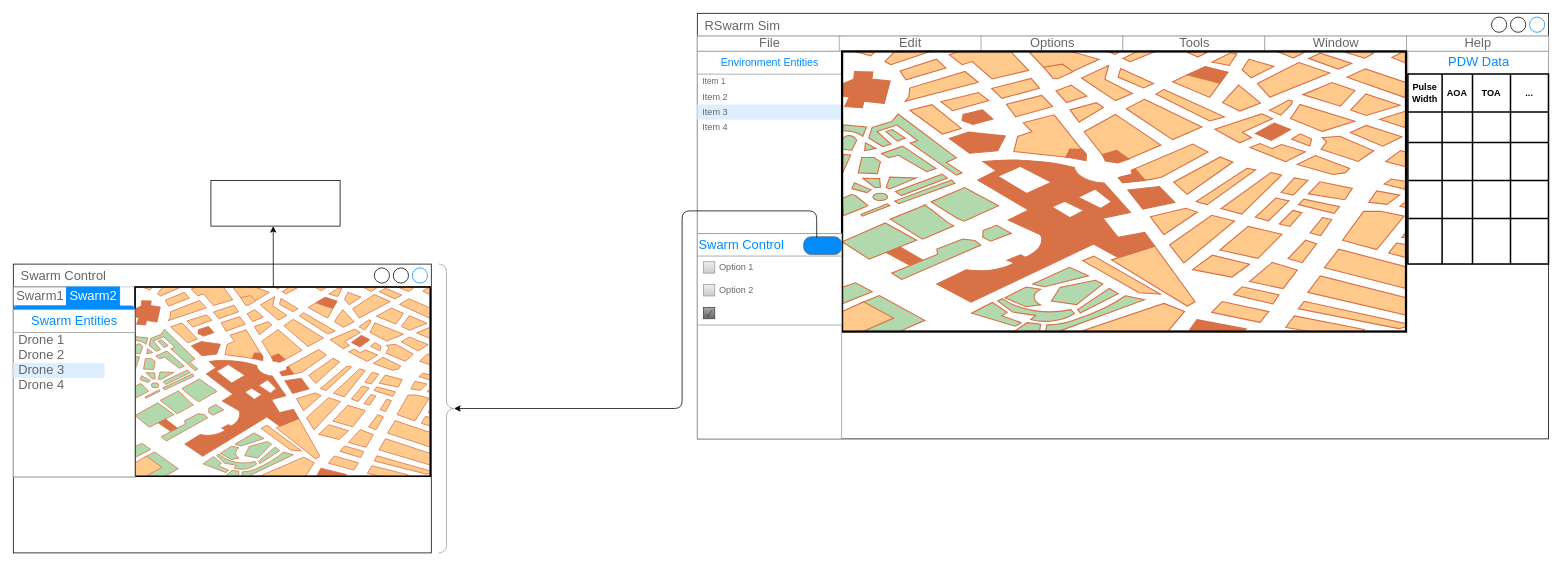
Image size: 1563x566. Some labels were removed from this diagram. Here are the shapes that lost their labels. From the top down, the centre of each, then its label:
At [275,203]: "Plot travel points for the currently selected the swarm.".
At [822,245]: "Advanced".
At [709,313]: "Option 3".
